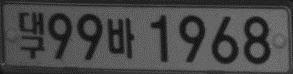1: (147, 15, 174, 62)
6: (211, 15, 239, 64)
8: (243, 15, 270, 65)
9: (178, 14, 206, 63), (77, 13, 103, 61), (47, 12, 72, 60)
대구_V: (17, 11, 45, 59)
바: (107, 17, 135, 58)
